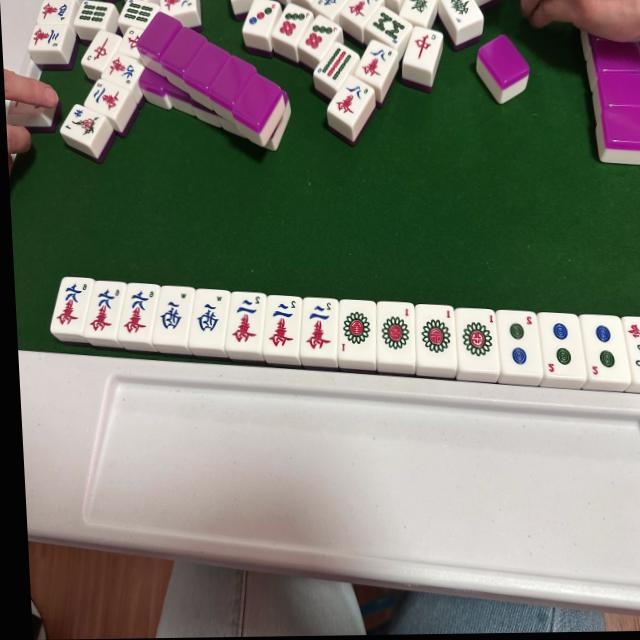ff4: (626, 318, 640, 381)
m2: (263, 298, 300, 351), (227, 295, 264, 347), (300, 300, 335, 353)
m6: (85, 283, 123, 334), (119, 287, 157, 337), (52, 280, 89, 331)
t1: (417, 306, 455, 361), (457, 311, 496, 364), (338, 303, 376, 354), (378, 303, 415, 355)
t2: (541, 316, 579, 375), (584, 319, 621, 377), (499, 314, 536, 371)
west: (158, 290, 192, 334), (192, 294, 226, 338)
